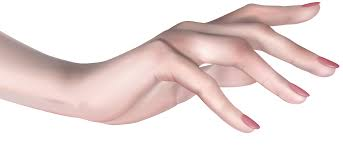hand: (64, 4, 339, 136)
